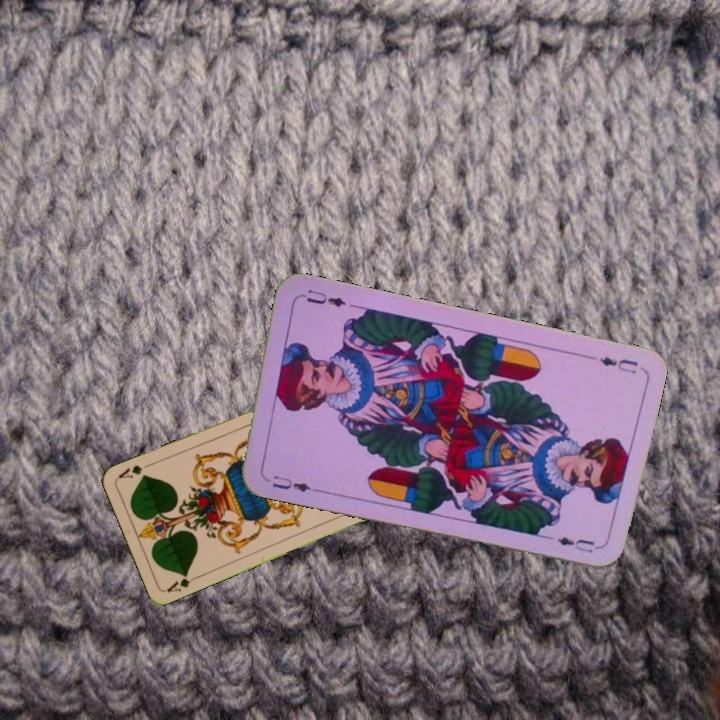EU: (260, 471, 318, 495), (596, 352, 641, 376)
GA: (162, 569, 201, 595)
